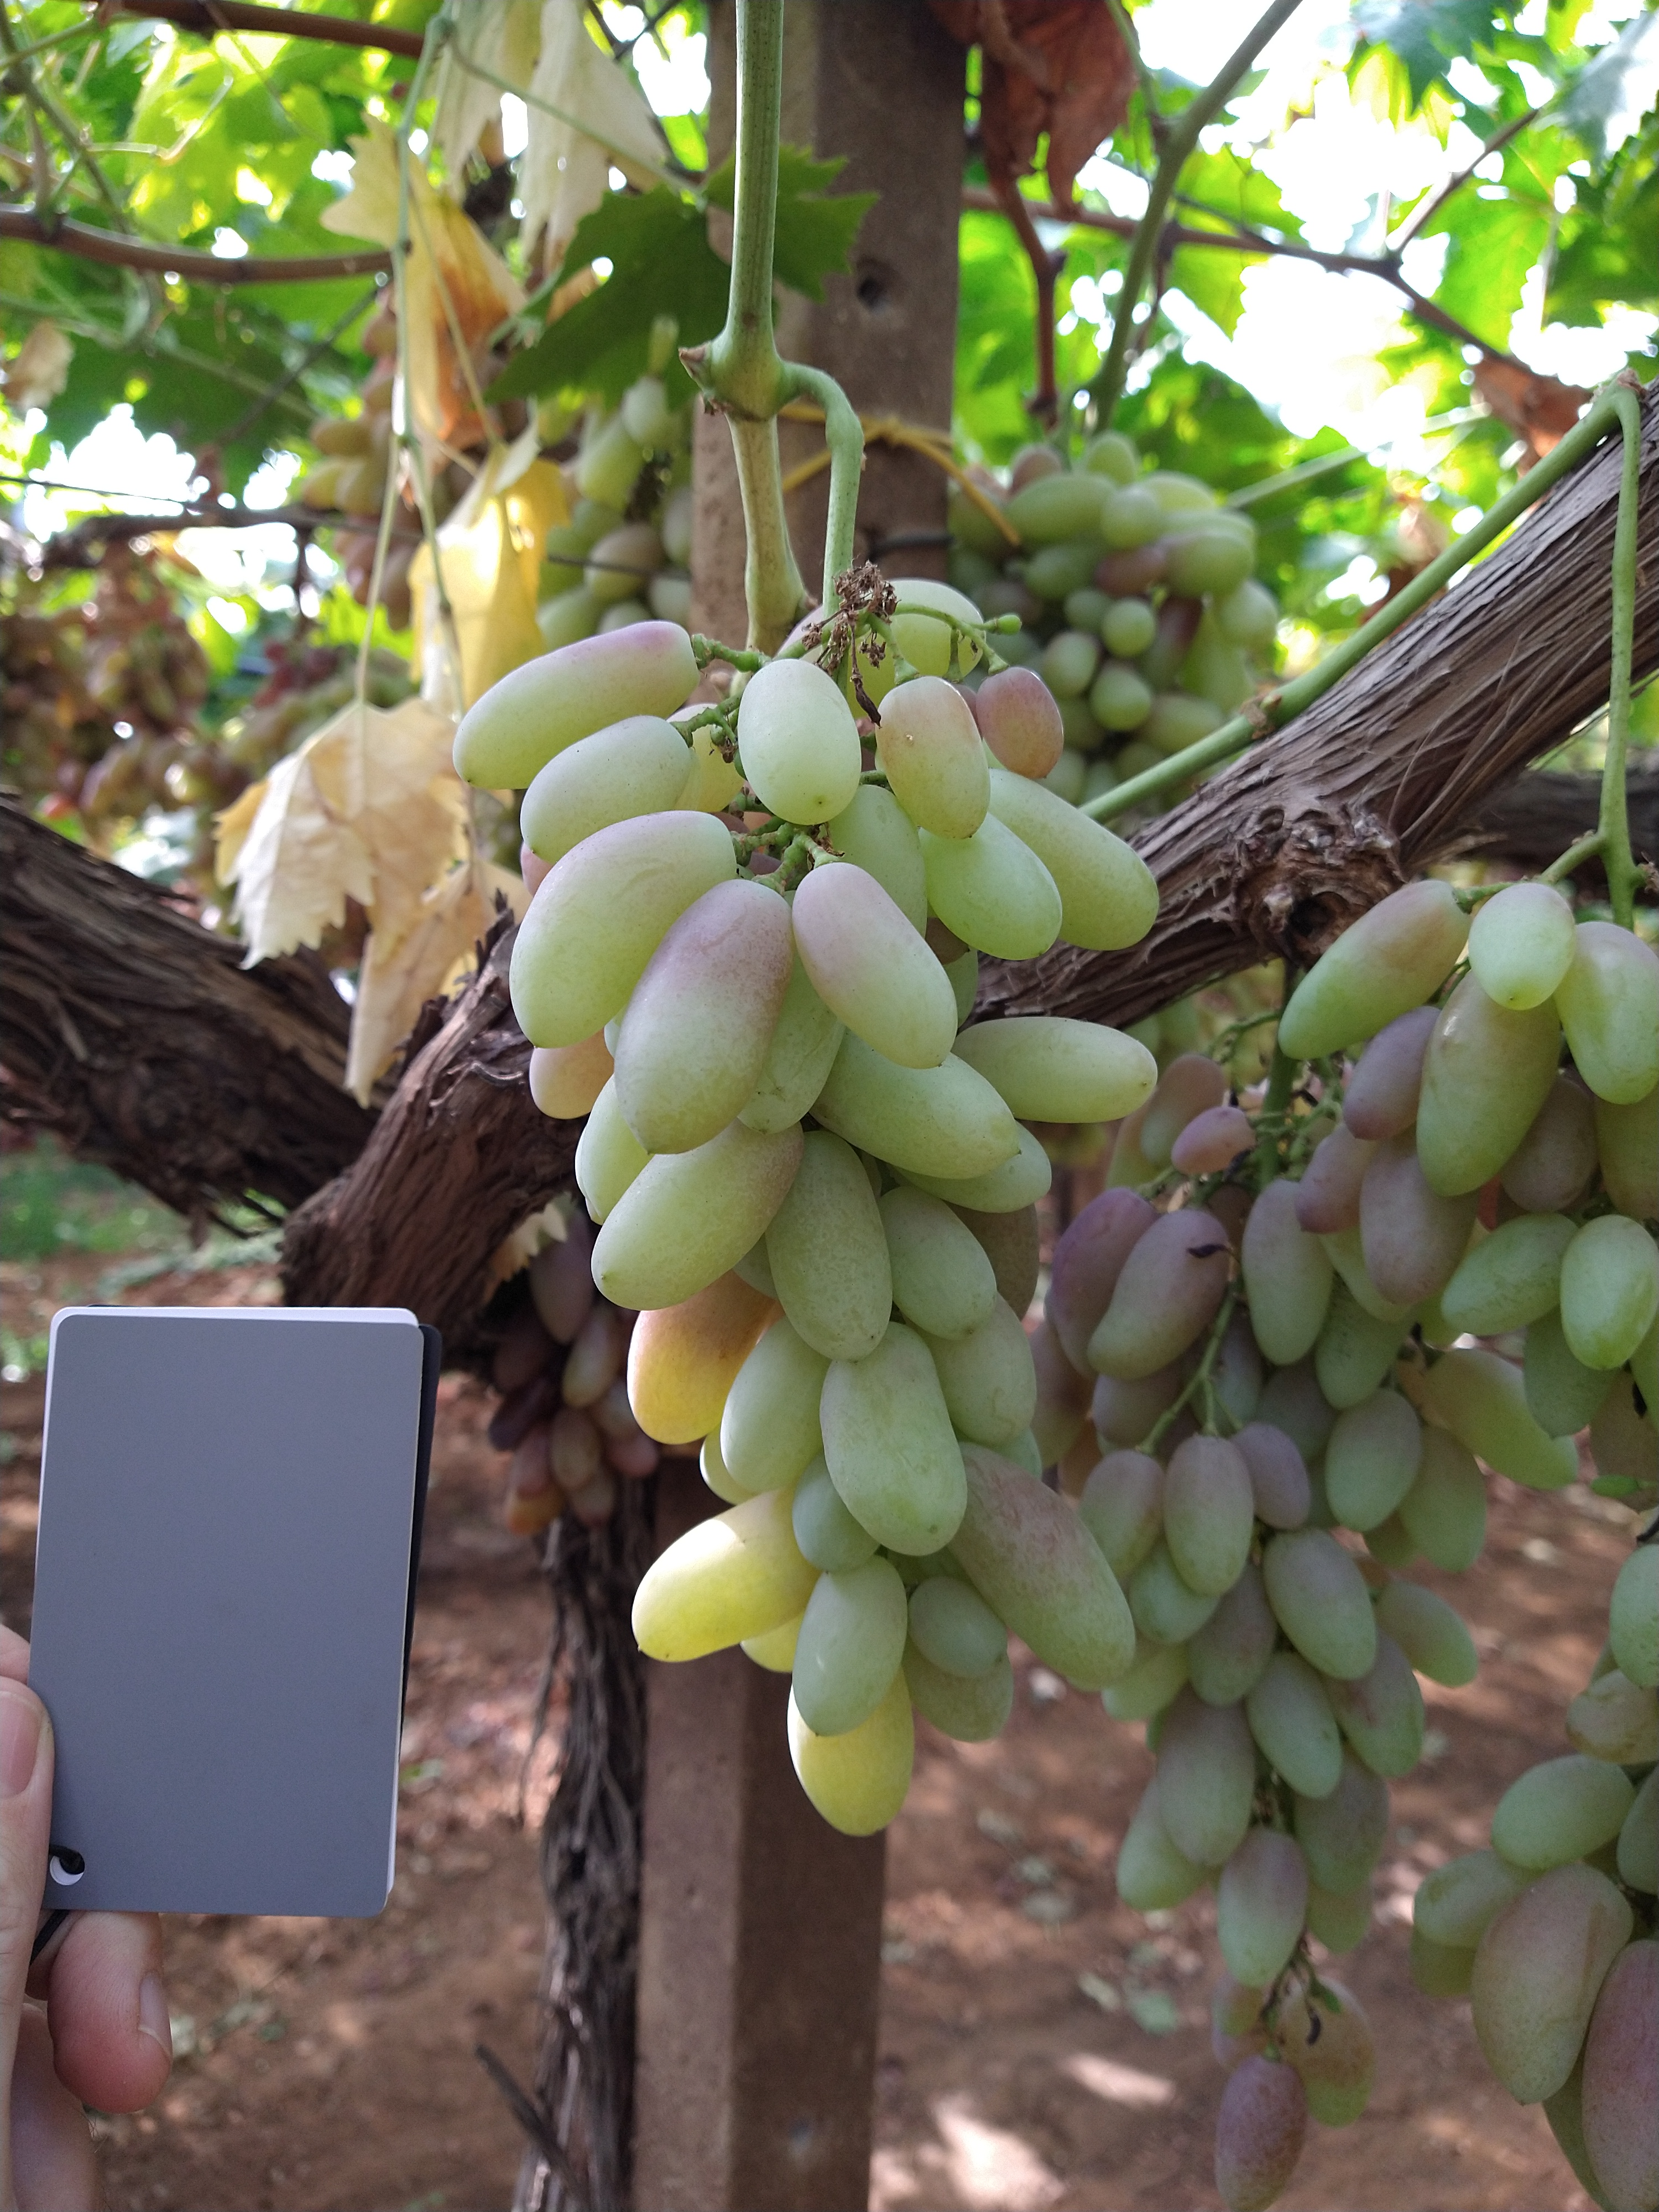acino: (509, 805, 739, 1050), (613, 874, 795, 1153), (946, 1439, 1136, 1695), (451, 620, 699, 792), (1471, 1857, 1629, 2104), (586, 1130, 796, 1313), (791, 860, 962, 1068), (1276, 878, 1467, 1062), (819, 1325, 969, 1557), (626, 1486, 814, 1663), (983, 773, 1164, 951), (1413, 991, 1563, 1197), (765, 1125, 896, 1360), (798, 1042, 1021, 1179), (518, 711, 690, 866), (1086, 1204, 1230, 1383), (627, 1275, 772, 1444), (950, 1014, 1159, 1125), (918, 813, 1065, 960), (737, 658, 863, 827), (791, 1557, 910, 1735), (871, 1186, 1000, 1345), (1553, 918, 1659, 1108), (873, 674, 992, 843), (1361, 1141, 1478, 1305), (789, 1693, 918, 1836), (721, 1320, 828, 1489), (1263, 1529, 1378, 1683), (1246, 1181, 1333, 1366), (1443, 1212, 1570, 1338), (934, 1294, 1040, 1444), (1493, 1756, 1635, 1867), (1157, 1702, 1251, 1869), (1164, 1432, 1256, 1599), (1561, 1214, 1657, 1371), (1218, 1822, 1307, 1989), (1215, 2054, 1307, 2212), (1471, 880, 1579, 1010), (1324, 1392, 1422, 1534), (1394, 1426, 1488, 1573), (1249, 1655, 1342, 1801), (1340, 1007, 1438, 1144), (1527, 1308, 1621, 1440), (1079, 1447, 1161, 1583), (974, 664, 1065, 780), (911, 1578, 1009, 1681), (525, 1035, 615, 1123), (1173, 1106, 1262, 1181)
